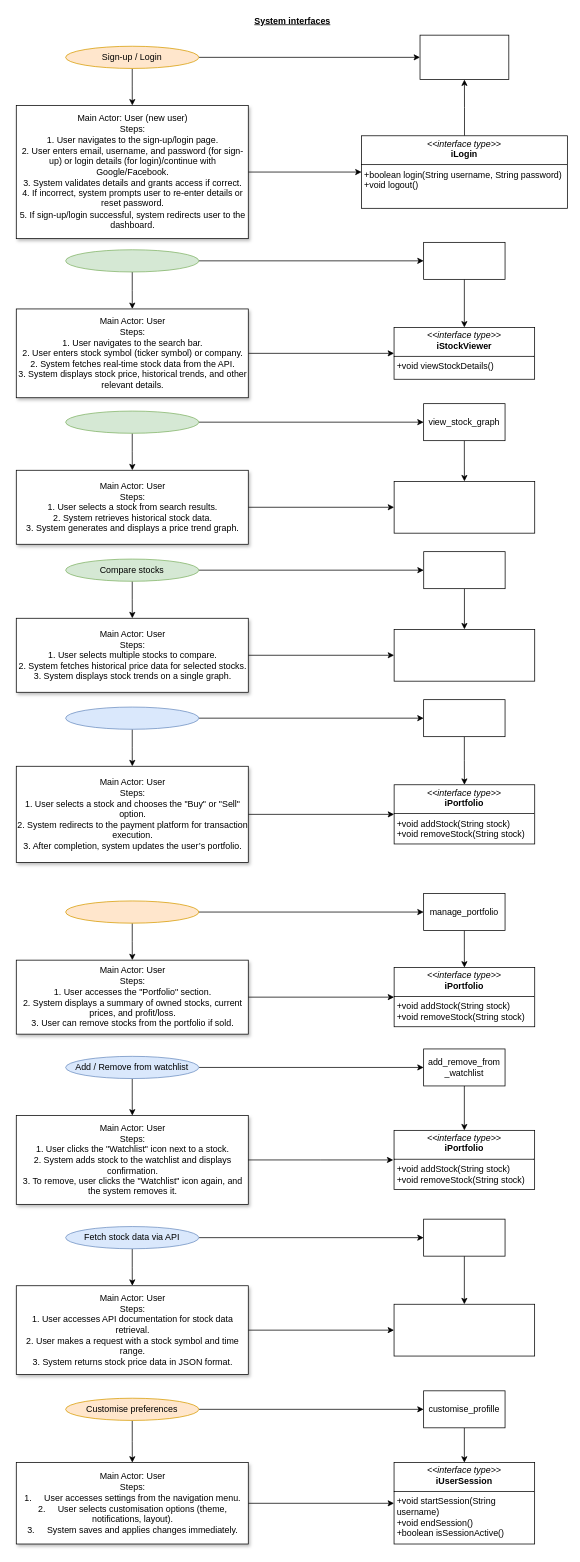
Image size: 580x1562. Some labels were removed from this diagram. Each missing label, with the centre of its shape:
<<interface type>> iStockComparison +String compareStocks(): [464,655]
<<interface type>> iStockData +void updateStockData(): [464,1330]
<<interface type>> iStockGraph +void generateGraph(): [464,507]
Buy / Sell stocks: [132,717]
buy_sell_stocks: [464,718]
compare_stocks: [464,570]
fetch_stock_data: [464,1237]
Manage portfolio: [132,911]
Search stocks: [132,260]
search_stocks: [464,260]
user_login: [464,57]
View stock graph: [132,421]
